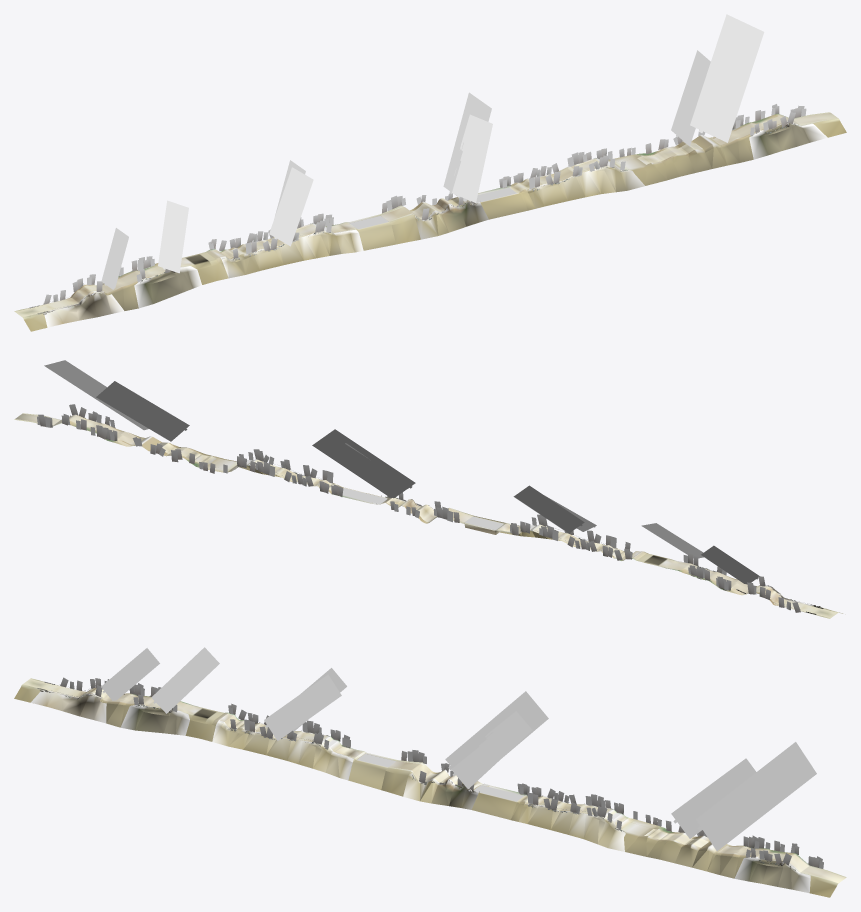
The model's file is Beach_11.fbx.
3 renders of one model, top to bottom at view 1: azimuth 30°, elevation 25°; view 2: azimuth 150°, elevation 25°; view 3: azimuth 330°, elevation 25°, orthographic.
Parts seen in each view (by area): view 1: Light_01, Mountain_01, Road_01, Tree_01, Ground_01; view 2: Light_01, Tree_01, Ground_01, Road_01, Sea_01; view 3: Light_01, Mountain_01, Road_01, Tree_01, Ground_01, Sea_01.
Part boxes in pixels (bbox=[...]): Light_01: bbox=[101, 14, 764, 289]; Mountain_01: bbox=[44, 121, 827, 327]; Road_01: bbox=[14, 112, 846, 331]; Tree_01: bbox=[43, 104, 806, 314]; Ground_01: bbox=[15, 113, 837, 317]; Light_01: bbox=[44, 360, 759, 584]; Tree_01: bbox=[37, 404, 820, 612]; Ground_01: bbox=[15, 413, 837, 617]; Road_01: bbox=[14, 413, 842, 618]; Sea_01: bbox=[342, 488, 503, 529]; Light_01: bbox=[101, 647, 816, 851]; Mountain_01: bbox=[30, 690, 810, 893]; Road_01: bbox=[14, 678, 846, 897]; Tree_01: bbox=[40, 677, 823, 870]; Ground_01: bbox=[23, 679, 845, 883]; Sea_01: bbox=[357, 754, 523, 801].
Size of the model in its own units: 74309 by 9496 by 7091.
